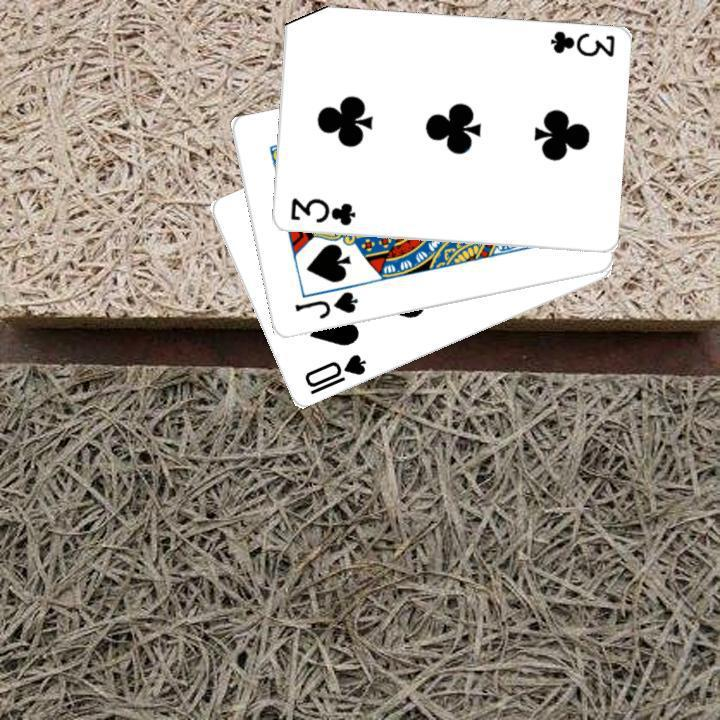10: (299, 350, 368, 397)
3: (285, 194, 357, 229), (545, 26, 616, 60)
J: (290, 287, 360, 322)
